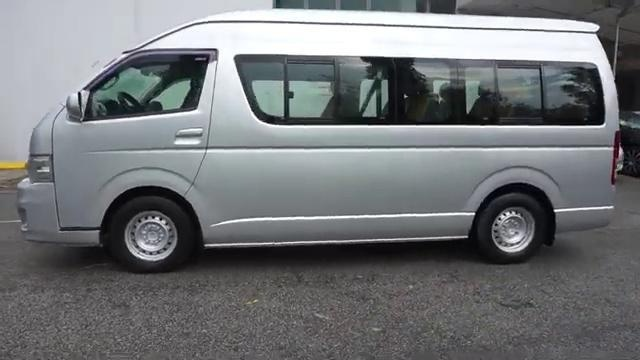van: (0, 18, 621, 267)
